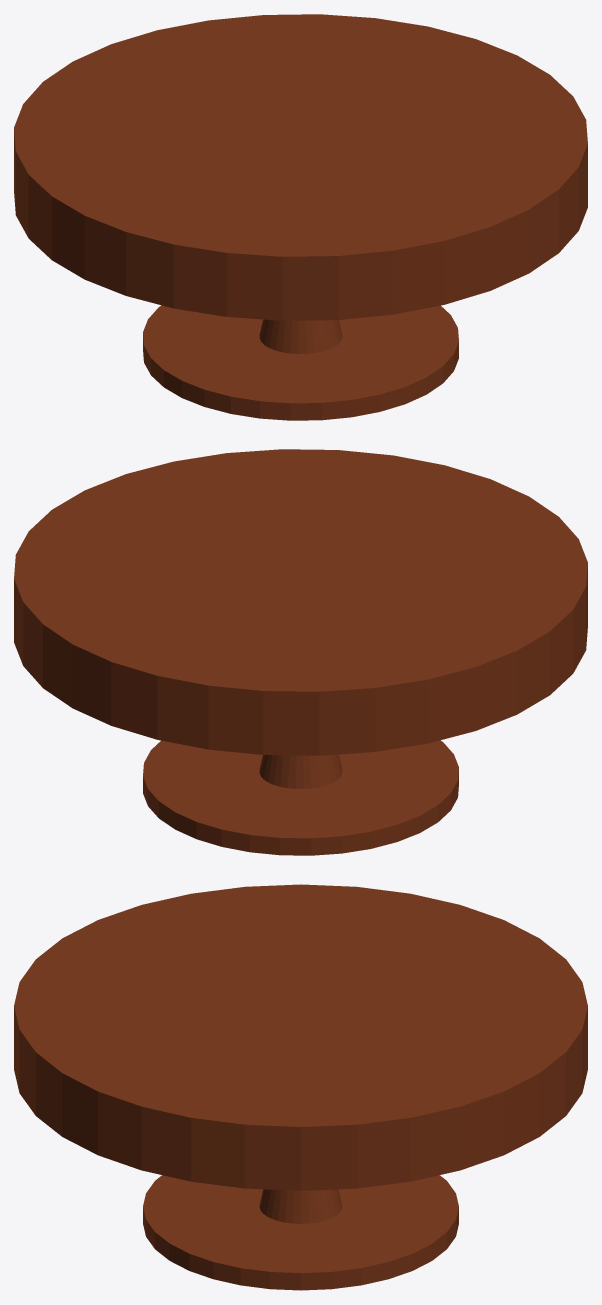
The model's file is Round Table.fbx.
The picture shows the model from 3 angles, top to bottom: view 1: azimuth 30°, elevation 25°; view 2: azimuth 150°, elevation 25°; view 3: azimuth 270°, elevation 25°; orthographic projection.
Parts seen in each view (by area): view 1: Table; view 2: Table; view 3: Table.
Part boxes in pixels (x1,y1,x2,y2): Table: (14,14,587,420); Table: (14,449,587,855); Table: (14,884,587,1290).
Size of the model in its own units: 200 by 83.79 by 200.
